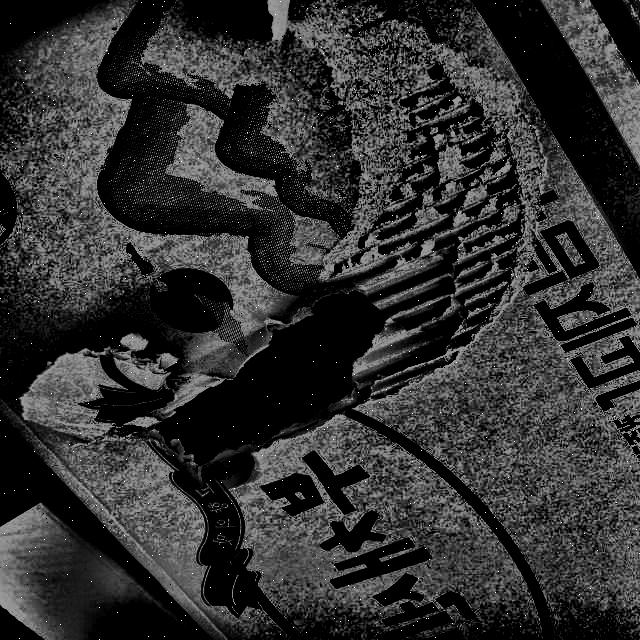box: (0, 1, 639, 640)
hole: (132, 284, 397, 480)
